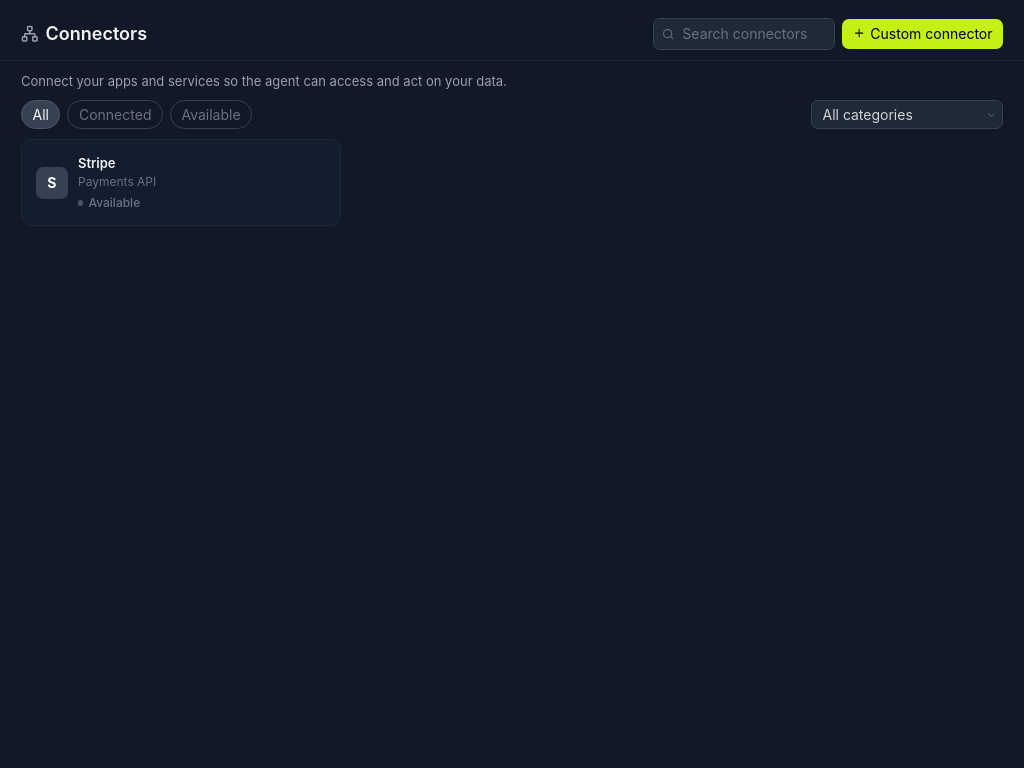
Test case: ConnectorsPage › "Custom connector" button opens the custom panel
Click the button "Custom connector" at (923, 34), box [842,18,1003,49]
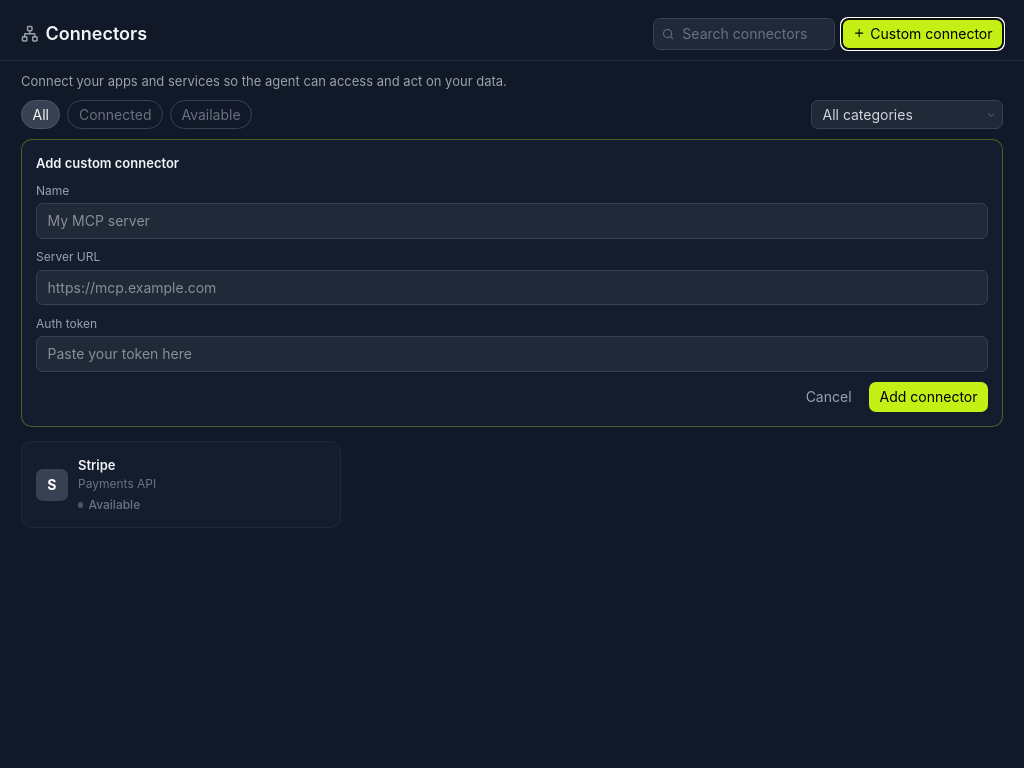
Expected: the field with placeholder "My MCP server" is shown, [36,203,988,239]
